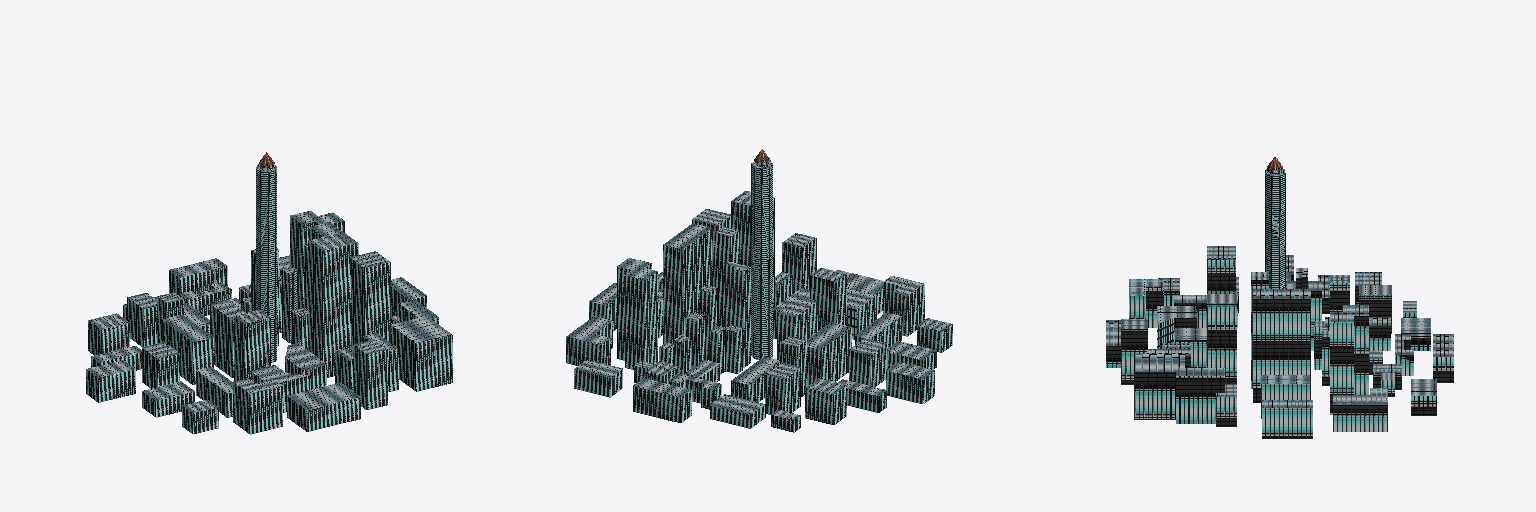
3 views of the same model, side by side, from view 1: azimuth 30°, elevation 25°; view 2: azimuth 150°, elevation 25°; view 3: azimuth 270°, elevation 25° (orthographic).
Visible parts, largest first — view 1: SketchUp_038_ID236.001_Green.002, SketchUp_038_ID236.001_black.002, SketchUp_038_ID236.001_Green.000; view 2: SketchUp_038_ID236.001_Green.002, SketchUp_038_ID236.001_black.002, SketchUp_038_ID236.001_Green.000; view 3: SketchUp_038_ID236.001_Green.002, SketchUp_038_ID236.001_black.002, SketchUp_038_ID236.001_Green.000.
Part boxes in pixels (left/top/right/bottom): SketchUp_038_ID236.001_Green.002: left=86, top=166, right=452, bottom=434; SketchUp_038_ID236.001_black.002: left=87, top=165, right=451, bottom=412; SketchUp_038_ID236.001_Green.000: left=256, top=169, right=276, bottom=362; SketchUp_038_ID236.001_Green.002: left=566, top=162, right=952, bottom=432; SketchUp_038_ID236.001_black.002: left=567, top=161, right=951, bottom=419; SketchUp_038_ID236.001_Green.000: left=751, top=164, right=772, bottom=359; SketchUp_038_ID236.001_Green.002: left=1106, top=170, right=1453, bottom=438; SketchUp_038_ID236.001_black.002: left=1106, top=169, right=1453, bottom=407; SketchUp_038_ID236.001_Green.000: left=1265, top=173, right=1285, bottom=288.
Bounding box in the file's own units: 83.2 × 50.77 × 77.33.
4 materials, 3 textured.